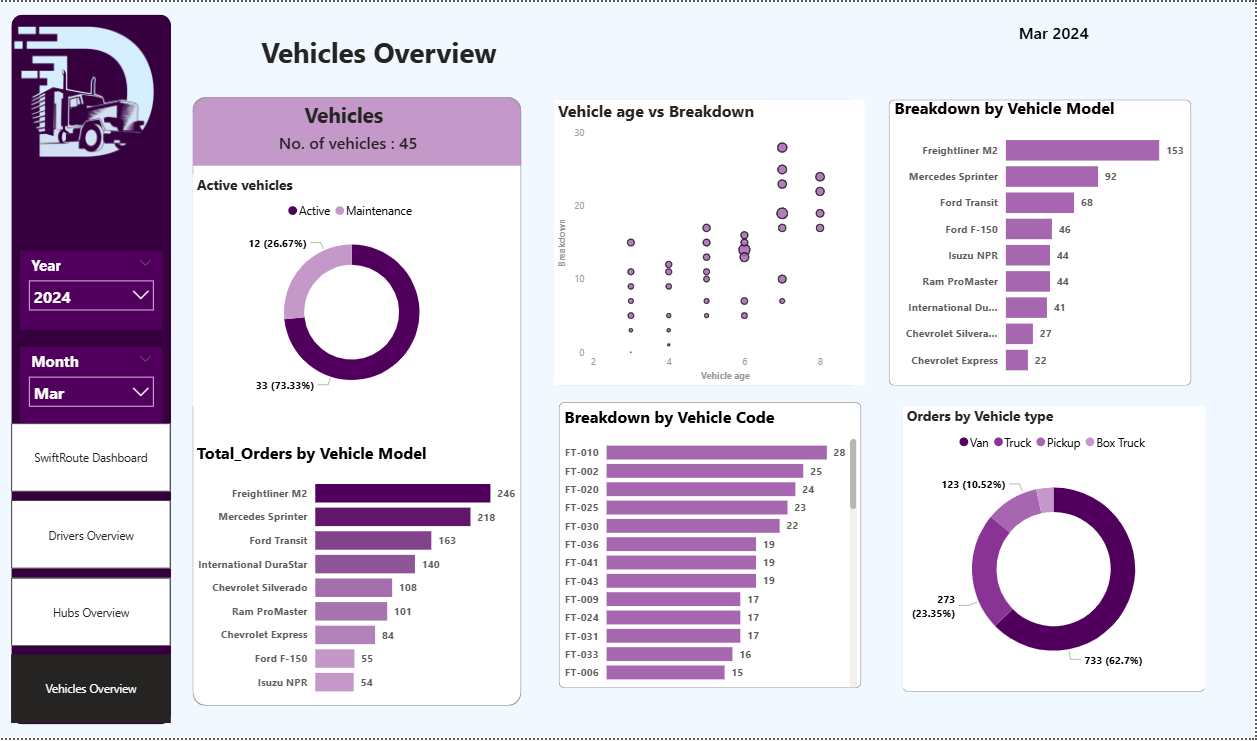

This screenshot's page, from the dashboard's own definition file:
{"tool":"powerbi","page":{"name":"Vehicles Overview","canvas":[1450,850],"ordinal":3},"visuals":[{"type":"shape","box":[13,14.4,184.8,820],"z":0},{"type":"textbox","box":[161.7,31.8,551.5,60.6],"z":1000},{"type":"slicer","fields":{"Values":["Date table.Year"]},"box":[23.1,287.3,164.6,90.9],"z":2000},{"type":"slicer","fields":{"Values":["Date table.Month"]},"box":[23.1,398.4,164.6,88.1],"z":3000},{"type":"image","box":[0,0,197.8,219.4],"z":4000},{"type":"cardVisual","fields":{"Data":["Orders (1).Year Month Title"]},"box":[1026.4,5.8,381.1,57.7],"z":5000},{"type":"shape","box":[639.5,112.6,349.4,330.6],"z":6000},{"type":"shape","box":[222.3,109.7,379.7,703],"z":7000},{"type":"shape","box":[222.3,109.7,379.7,79.4],"z":8000},{"type":"cardVisual","fields":{"Data":["Vehicles.No. of Vehicles"]},"box":[293.1,132.8,261.3,57.7],"z":9000},{"type":"textbox","box":[293.1,109.7,207.9,44.8],"z":10000},{"type":"donutChart","title":"Active vehicles","fields":{"Category":["Vehicles.Vehicle Status"],"Y":["CountNonNull(Vehicles.Vehicle ID)"]},"box":[222.3,199.2,368.1,267.1],"z":11000},{"type":"barChart","fields":{"Category":["Vehicles.Vehicle Model"],"Y":["Orders (1).Total_Orders"]},"box":[222.3,508.2,379.7,304.6],"z":12000},{"type":"shape","box":[1026.4,112.6,349.4,330.6],"z":13000},{"type":"scatterChart","title":"Vehicle age vs Breakdown","fields":{"X":["Vehicles.Vehicle age"],"Y":["Vehicles.Breakdown"],"Size":["Sum(Vehicles.Breakdown)1"]},"box":[639.5,112.6,359.5,330.6],"z":14000},{"type":"shape","box":[645.3,462,349.4,330.6],"z":15000},{"type":"barChart","title":"Breakdown by Vehicle Code","fields":{"Category":["Vehicles.Vehicle Code"],"Y":["Sum(Vehicles.Breakdown)"]},"box":[646.7,466.3,347.9,330.6],"z":16000},{"type":"barChart","title":"Breakdown by Vehicle Model","fields":{"Y":["Sum(Vehicles.Breakdown)"],"Category":["Vehicles.Vehicle Model"]},"box":[1027.9,109.7,347.9,333.5],"z":17000},{"type":"shape","box":[1042.3,466.3,349.4,330.6],"z":18000},{"type":"donutChart","title":"Orders by Vehicle type","fields":{"Category":["Orders (1).Vehicle Type"],"Y":["Orders (1).Total_Orders"]},"box":[1042.3,466.3,349.4,326.3],"z":19000},{"type":"pageNavigator","box":[13,486.5,184.8,347.9],"z":19001}]}

Visuals, with their boxes on the page's 1450x850 design canvas (x1, y1, x2, y2). These are canvas units, not pixel positions in the 1257x741 screenshot, which may show the page scaled, cropped or inside an application window:
shape: (13,14,198,834)
textbox: (162,32,713,92)
slicer - Date table.Year: (23,287,188,378)
slicer - Date table.Month: (23,398,188,486)
image: (0,0,198,219)
cardVisual - Orders (1).Year Month Title: (1026,6,1408,64)
shape: (640,113,989,443)
shape: (222,110,602,813)
shape: (222,110,602,189)
cardVisual - Vehicles.No. of Vehicles: (293,133,554,190)
textbox: (293,110,501,154)
"Active vehicles" donutChart: (222,199,590,466)
barChart - Vehicles.Vehicle Model x Orders (1).Total_Orders: (222,508,602,813)
shape: (1026,113,1376,443)
"Vehicle age vs Breakdown" scatterChart: (640,113,999,443)
shape: (645,462,995,793)
"Breakdown by Vehicle Code" barChart: (647,466,995,797)
"Breakdown by Vehicle Model" barChart: (1028,110,1376,443)
shape: (1042,466,1392,797)
"Orders by Vehicle type" donutChart: (1042,466,1392,793)
pageNavigator: (13,486,198,834)
